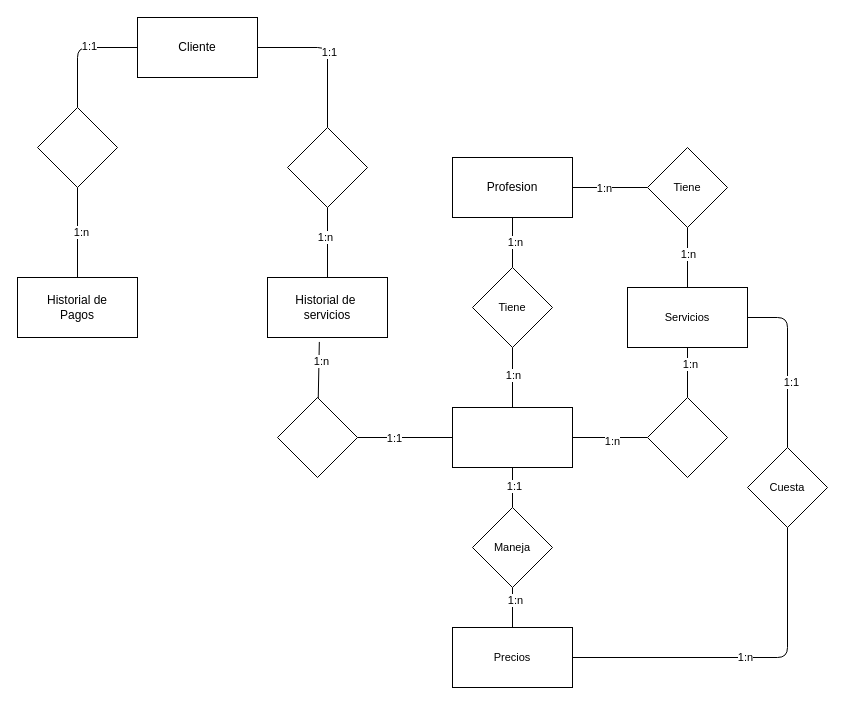
This 845x705 diagram has some shape labels left out. Here are the shapes that lost their labels. From the top down, the centre of each, then its label:
the point at 77,147: Realiza pago
the point at 327,167: Contrata servicios
the point at 317,437: Realiza Servicio
the point at 512,437: Servidor
the point at 687,437: Ofrece
